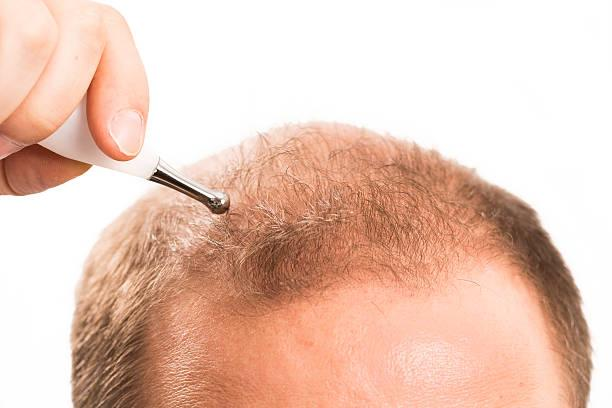low hair density: (426, 191, 495, 252), (275, 154, 338, 214), (322, 215, 396, 261)
